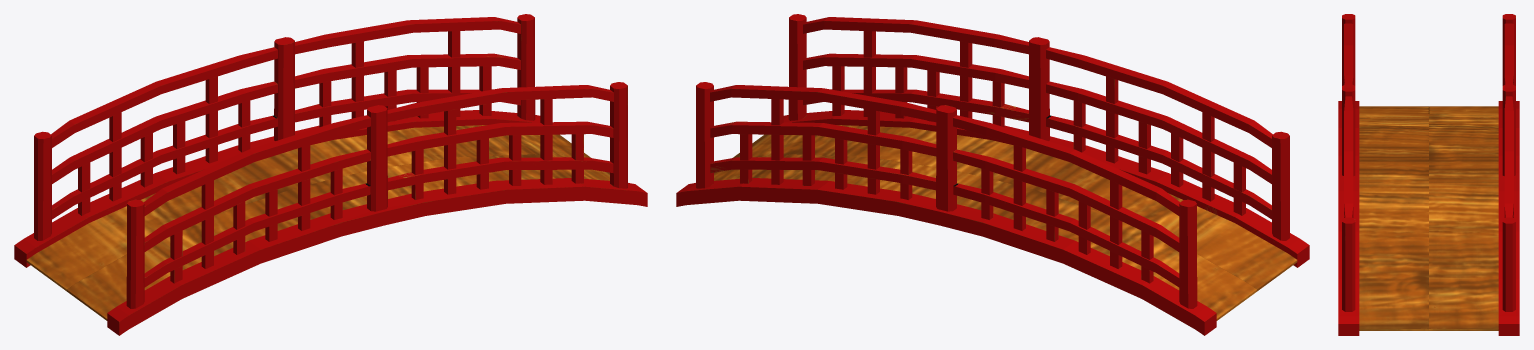
Rendered from bridge.fbx.
3 views of the same model, side by side, from view 1: azimuth 30°, elevation 25°; view 2: azimuth 150°, elevation 25°; view 3: azimuth 270°, elevation 25° (orthographic). The views are drawn at different scales.
Visible parts, largest first — view 1: Cube.001; view 2: Cube.001; view 3: Cube.001.
Part boxes in pixels (box(x1,y1,x2,y2)): Cube.001: box(14, 14, 647, 335); Cube.001: box(676, 14, 1309, 335); Cube.001: box(1338, 14, 1519, 335).
Bounding box in the file's own units: 818 × 234 × 281.
